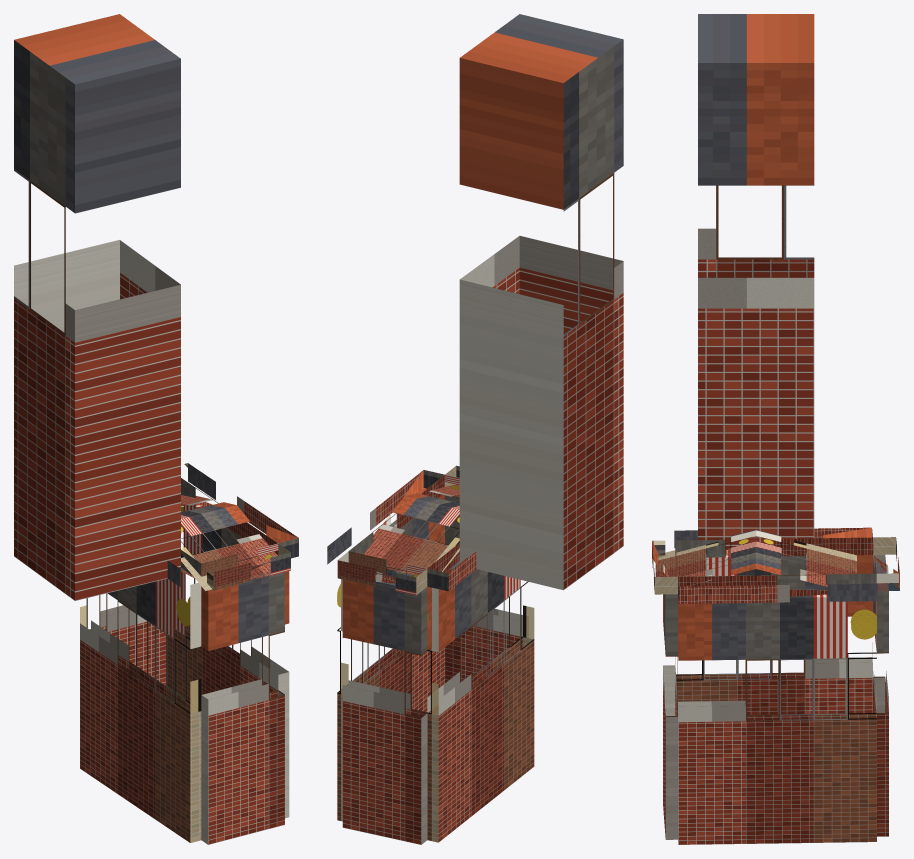
The picture shows the model from 3 angles, left to right: view 1: azimuth 30°, elevation 25°; view 2: azimuth 150°, elevation 25°; view 3: azimuth 270°, elevation 25°; orthographic projection. The views are drawn at different scales.
Visible parts, largest first — view 1: 1106965466__chimney_0_xb, 1106965466__wall_1_xb, 1106965466__wall_0_xb, 1106965466__wall_3_xb, 1106965466_roof_-1_xb, 1106965466__wall_2_xb, 1106965466__cornice_3, 1106965466__cornice_0, 1106965466_roof_1_xb, 1106965466__cornice_1; view 2: 1106965466__chimney_0_xb, 1106965466__wall_1_xb, 1106965466__wall_2_xb, 1106965466__wall_3_xb, 1106965466_roof_1_xb, 1106965466__wall_0_xb, 1106965466__cornice_3, 1106965466__cornice_2, 1106965466__cornice_1, 1106965466_roof_-1_xb, 1106965466__wall_1_xf; view 3: 1106965466__chimney_0_xb, 1106965466__wall_3_xb, 1106965466__wall_1_xb, 1106965466__cornice_3, 1106965466__wall_0_xb, 1106965466__wall_2_xb, 1106965466__cornice_1, 1106965466_roof_1_xb, 1106965466_roof_-1_xb, 1106965466__cornice_2, 1106965466__cornice_0.
Boxes of the visible parts, <box> form: 1106965466__chimney_0_xb: <box>14,14,180,600</box>; 1106965466__wall_1_xb: <box>80,572,201,842</box>; 1106965466__wall_0_xb: <box>201,572,284,844</box>; 1106965466__wall_3_xb: <box>167,503,289,818</box>; 1106965466_roof_-1_xb: <box>181,505,277,590</box>; 1106965466__wall_2_xb: <box>89,593,165,685</box>; 1106965466__cornice_3: <box>181,463,298,558</box>; 1106965466__cornice_0: <box>201,543,290,590</box>; 1106965466_roof_1_xb: <box>181,495,236,518</box>; 1106965466__cornice_1: <box>167,550,201,586</box>; 1106965466__chimney_0_xb: <box>459,14,623,590</box>; 1106965466__wall_1_xb: <box>427,561,534,842</box>; 1106965466__wall_2_xb: <box>342,575,427,844</box>; 1106965466__wall_3_xb: <box>337,494,444,821</box>; 1106965466_roof_1_xb: <box>364,496,459,575</box>; 1106965466__wall_0_xb: <box>445,495,528,682</box>; 1106965466__cornice_3: <box>327,470,444,564</box>; 1106965466__cornice_2: <box>337,551,427,595</box>; 1106965466__cornice_1: <box>427,543,476,591</box>; 1106965466_roof_-1_xb: <box>405,484,459,509</box>; 1106965466__wall_1_xf: <box>432,606,533,715</box>; 1106965466__chimney_0_xb: <box>698,14,814,549</box>; 1106965466__wall_3_xb: <box>678,594,876,844</box>; 1106965466__wall_1_xb: <box>675,555,872,714</box>; 1106965466__cornice_3: <box>678,573,877,603</box>; 1106965466__wall_0_xb: <box>663,594,677,839</box>; 1106965466__wall_2_xb: <box>873,554,888,836</box>; 1106965466__cornice_1: <box>674,527,872,557</box>; 1106965466_roof_1_xb: <box>756,530,856,586</box>; 1106965466_roof_-1_xb: <box>655,530,756,586</box>; 1106965466__cornice_2: <box>873,537,899,591</box>; 1106965466__cornice_0: <box>652,540,677,594</box>.
Size of the model in its own units: 0.303 by 1.05 by 0.3202.
Materials: 1 (1 with a texture image).
